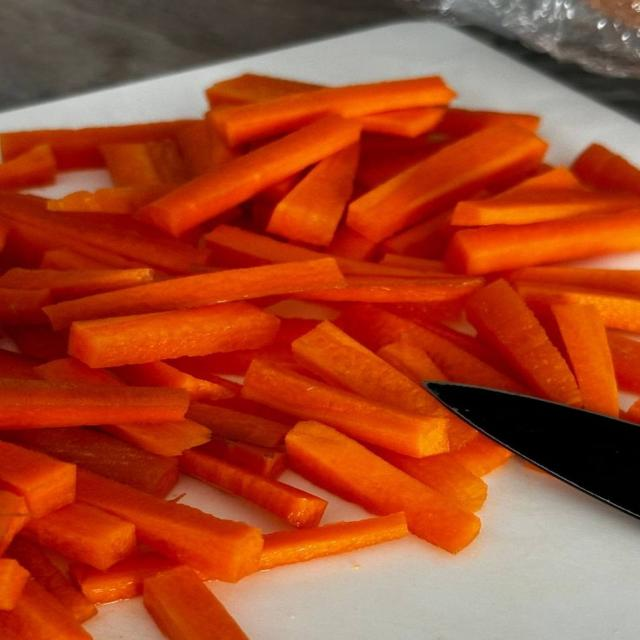carrot: (137, 116, 360, 236), (287, 422, 479, 553), (347, 126, 546, 240), (45, 257, 346, 329), (77, 470, 262, 581), (242, 360, 448, 456), (0, 192, 208, 273), (213, 77, 454, 146), (338, 305, 525, 392), (292, 322, 454, 422), (466, 279, 581, 405), (68, 302, 279, 367), (446, 209, 639, 274), (3, 428, 178, 495), (180, 450, 327, 527), (0, 120, 192, 169), (0, 379, 188, 429), (267, 144, 359, 246), (260, 512, 408, 569), (20, 502, 136, 569), (8, 537, 97, 623), (143, 566, 247, 639), (552, 303, 619, 416), (373, 448, 486, 511), (452, 190, 639, 226), (515, 282, 639, 332), (0, 442, 76, 517), (0, 578, 92, 639), (69, 552, 176, 603), (295, 275, 483, 302), (205, 225, 326, 266), (0, 268, 153, 300), (116, 361, 234, 401), (187, 402, 289, 446), (100, 139, 187, 186), (101, 419, 209, 456), (102, 420, 210, 456), (206, 73, 320, 107), (507, 266, 639, 295), (47, 184, 172, 214), (195, 436, 286, 477), (175, 118, 238, 177), (380, 210, 452, 258), (572, 143, 639, 194), (377, 336, 446, 383), (436, 108, 540, 138), (360, 107, 446, 138), (450, 435, 513, 476), (0, 144, 57, 188), (4, 323, 68, 361), (0, 286, 53, 325), (607, 331, 639, 393), (0, 489, 30, 555), (327, 225, 377, 260), (379, 253, 449, 275), (0, 558, 29, 611), (40, 248, 108, 270), (0, 349, 40, 379)
